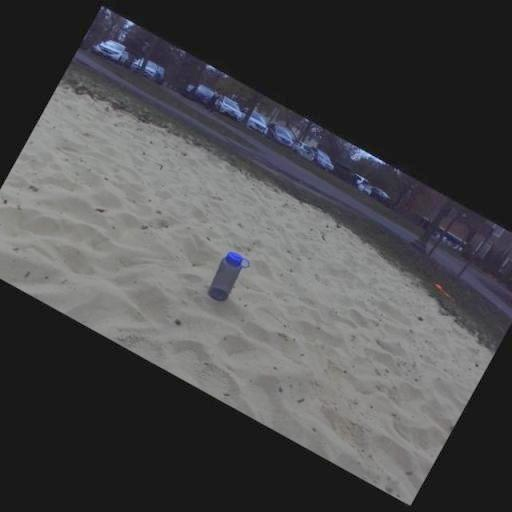bottle: (202, 248, 254, 309)
